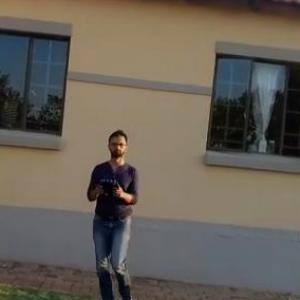follow: (82, 125, 145, 299)
